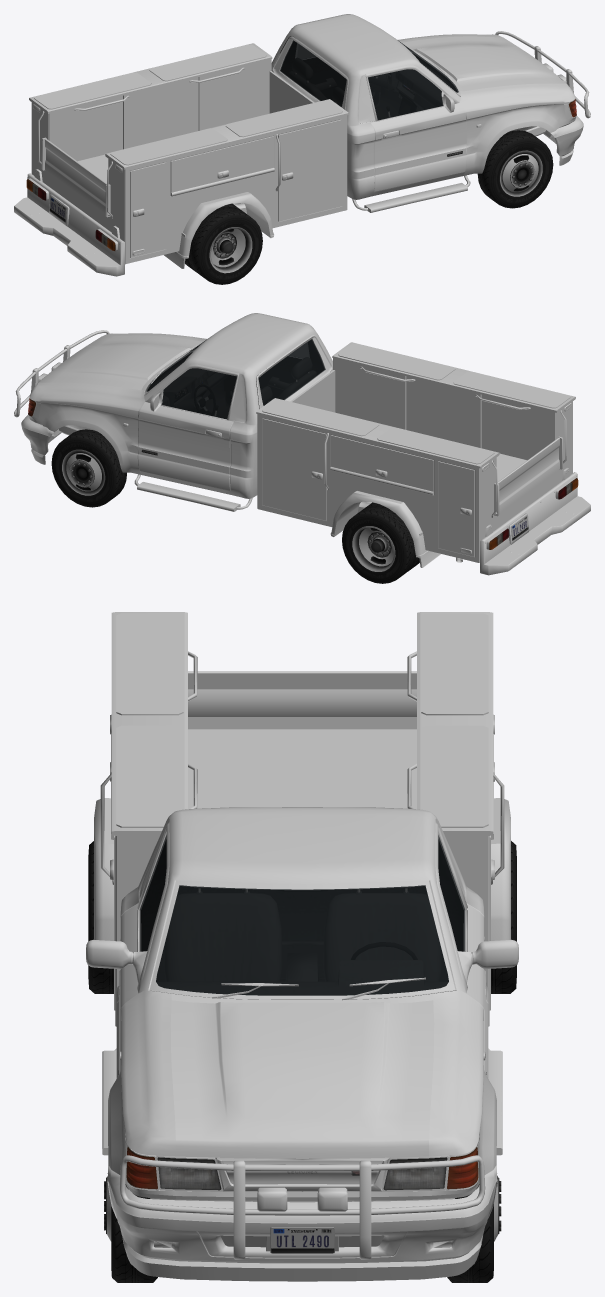
Rendered from UTLTRUCK90.fbx.
3 views of the same model, one above another, from view 1: azimuth 30°, elevation 25°; view 2: azimuth 150°, elevation 25°; view 3: azimuth 270°, elevation 25° (orthographic). The views are drawn at different scales.
Parts seen in each view (by area): view 1: UTLTRUCK90_Servisebed, UTLTRUCK90_Body, UTLTRUCK90_Servisebed_Trim, UTLTRUCK90_bottom, UTLTRUCK90_Hood, UTLTRUCK90_Interior, UTLTRUCK90_Bumper_rear, UTLTRUCK90_WheelStock_RR, UTLTRUCK90_WheelStock_FR, UTLTRUCK90_Glass_Passenger, UTLTRUCK90_Glass_Rear, UTLTRUCK90_Bullbar_A (+3 smaller); view 2: UTLTRUCK90_Servisebed, UTLTRUCK90_Body, UTLTRUCK90_Servisebed_Trim, UTLTRUCK90_bottom, UTLTRUCK90_Hood, UTLTRUCK90_Interior, UTLTRUCK90_Bumper_rear, UTLTRUCK90_WheelStock_RL, UTLTRUCK90_WheelStock_FL, UTLTRUCK90_Glass_Driver, UTLTRUCK90_Glass_Rear, UTLTRUCK90_Bullbar_A (+2 smaller); view 3: UTLTRUCK90_Servisebed_Trim, UTLTRUCK90_Body, UTLTRUCK90_Hood, UTLTRUCK90_Interior, UTLTRUCK90_Windshield, UTLTRUCK90_Servisebed, UTLTRUCK90_bottom, UTLTRUCK90_Bumper_front_inner, UTLTRUCK90_Bullbar_A, UTLTRUCK90_Bumper_Front, UTLTRUCK90_Headlights_Glass, UTLTRUCK90_Headlights (+8 smaller).
Boxes of the visible parts, x1=… form: UTLTRUCK90_Servisebed: x1=29, y1=43, x2=348, y2=264; UTLTRUCK90_Body: x1=271, y1=14, x2=575, y2=178; UTLTRUCK90_Servisebed_Trim: x1=29, y1=44, x2=342, y2=258; UTLTRUCK90_bottom: x1=164, y1=36, x2=576, y2=268; UTLTRUCK90_Hood: x1=402, y1=36, x2=566, y2=91; UTLTRUCK90_Interior: x1=280, y1=36, x2=457, y2=123; UTLTRUCK90_Bumper_rear: x1=14, y1=169, x2=124, y2=276; UTLTRUCK90_WheelStock_RR: x1=185, y1=203, x2=262, y2=284; UTLTRUCK90_WheelStock_FR: x1=477, y1=130, x2=553, y2=208; UTLTRUCK90_Glass_Passenger: x1=368, y1=69, x2=442, y2=120; UTLTRUCK90_Glass_Rear: x1=280, y1=40, x2=346, y2=106; UTLTRUCK90_Bullbar_A: x1=495, y1=31, x2=590, y2=118; UTLTRUCK90_Servisebed: x1=256, y1=342, x2=575, y2=562; UTLTRUCK90_Body: x1=29, y1=313, x2=332, y2=477; UTLTRUCK90_Servisebed_Trim: x1=262, y1=343, x2=575, y2=557; UTLTRUCK90_bottom: x1=28, y1=335, x2=462, y2=567; UTLTRUCK90_Hood: x1=38, y1=335, x2=202, y2=390; UTLTRUCK90_Interior: x1=147, y1=340, x2=324, y2=418; UTLTRUCK90_Bumper_rear: x1=480, y1=468, x2=590, y2=575; UTLTRUCK90_WheelStock_RL: x1=342, y1=502, x2=419, y2=583; UTLTRUCK90_WheelStock_FL: x1=51, y1=429, x2=126, y2=507; UTLTRUCK90_Glass_Driver: x1=162, y1=368, x2=236, y2=419; UTLTRUCK90_Glass_Rear: x1=258, y1=339, x2=325, y2=405; UTLTRUCK90_Bullbar_A: x1=14, y1=330, x2=109, y2=417; UTLTRUCK90_Servisebed_Trim: x1=94, y1=613, x2=510, y2=940; UTLTRUCK90_Body: x1=108, y1=807, x2=496, y2=1200; UTLTRUCK90_Hood: x1=170, y1=1000, x2=434, y2=1158; UTLTRUCK90_Interior: x1=141, y1=840, x2=463, y2=995; UTLTRUCK90_Windshield: x1=156, y1=885, x2=448, y2=995; UTLTRUCK90_Servisebed: x1=111, y1=612, x2=493, y2=1026; UTLTRUCK90_bottom: x1=86, y1=819, x2=518, y2=1202; UTLTRUCK90_Bumper_front_inner: x1=107, y1=1181, x2=497, y2=1281; UTLTRUCK90_Bullbar_A: x1=119, y1=1155, x2=485, y2=1259; UTLTRUCK90_Bumper_Front: x1=107, y1=1165, x2=497, y2=1223; UTLTRUCK90_Headlights_Glass: x1=126, y1=1147, x2=478, y2=1190; UTLTRUCK90_Headlights: x1=158, y1=1157, x2=446, y2=1189.
Size of the model in its own units: 5.37 by 1.66 by 2.
